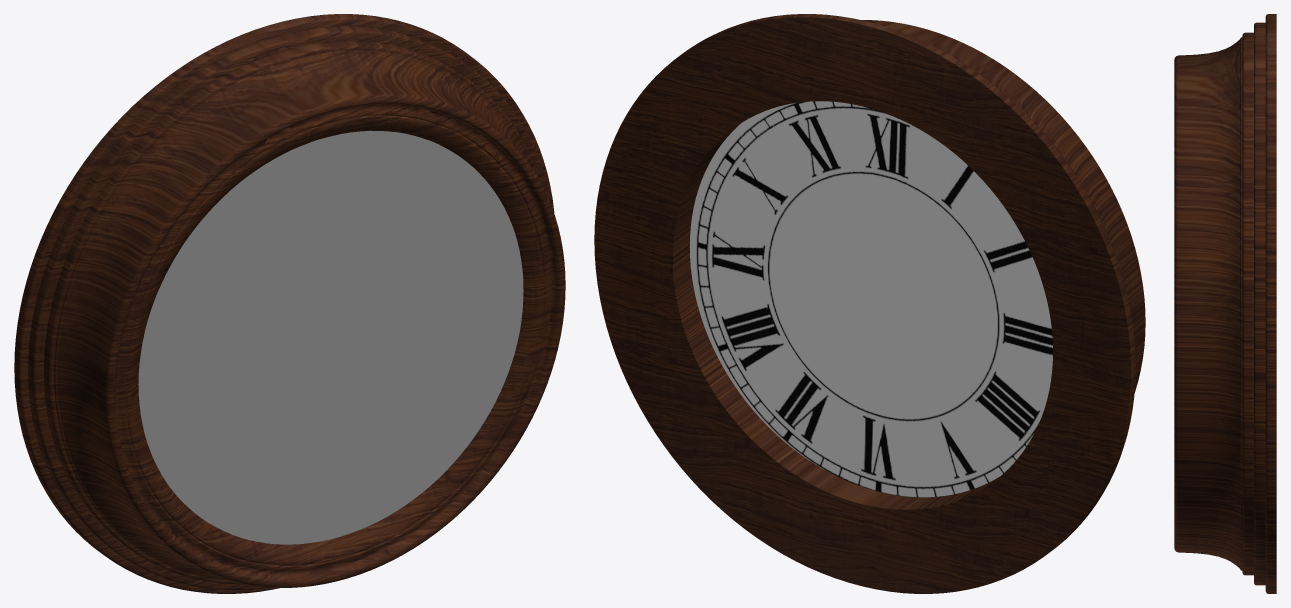
Rendered from Clock 7.fbx.
The picture shows the model from 3 angles, left to right: view 1: azimuth 30°, elevation 25°; view 2: azimuth 150°, elevation 25°; view 3: azimuth 270°, elevation 25°; orthographic projection. The views are drawn at different scales.
Visible parts, largest first — view 1: Clock 7; view 2: Clock 7; view 3: Clock 7.
Boxes of the visible parts, x1,y1,x2,y2 form: Clock 7: (14, 14, 565, 593); Clock 7: (594, 14, 1145, 593); Clock 7: (1174, 14, 1276, 593).
Size of the model in its own units: 34 by 34 by 6.
